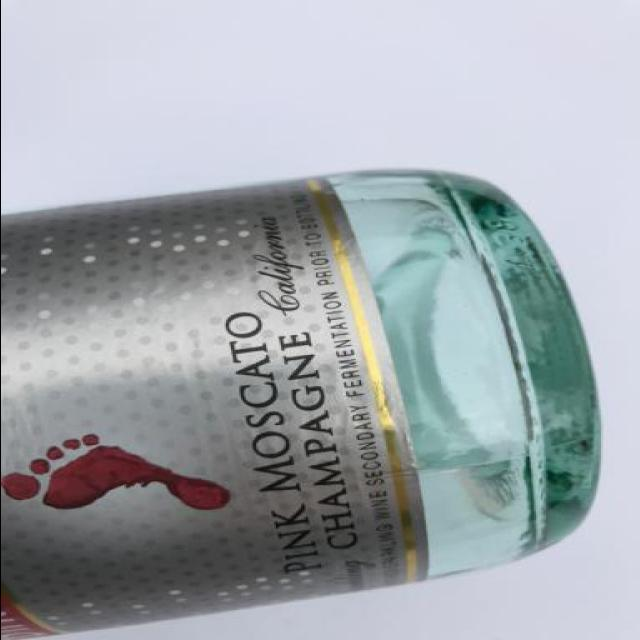litter: (0, 169, 605, 639)
